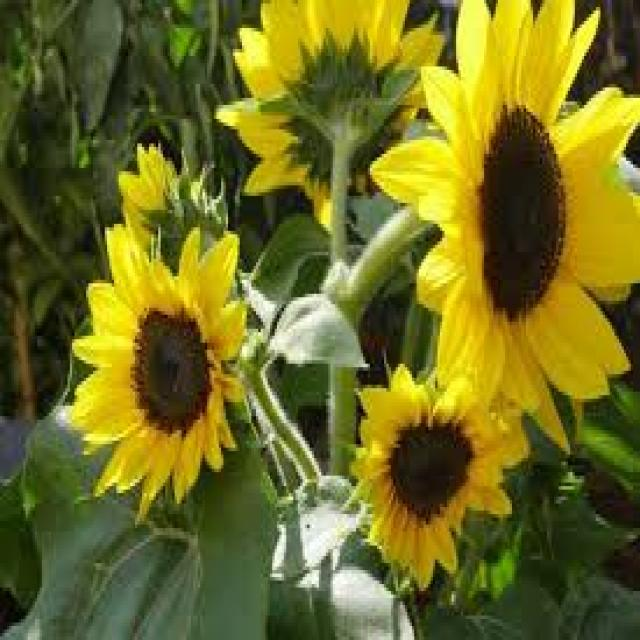sunflower: (365, 0, 640, 463), (55, 208, 273, 529), (210, 0, 455, 250), (348, 360, 524, 597), (106, 134, 231, 329)
